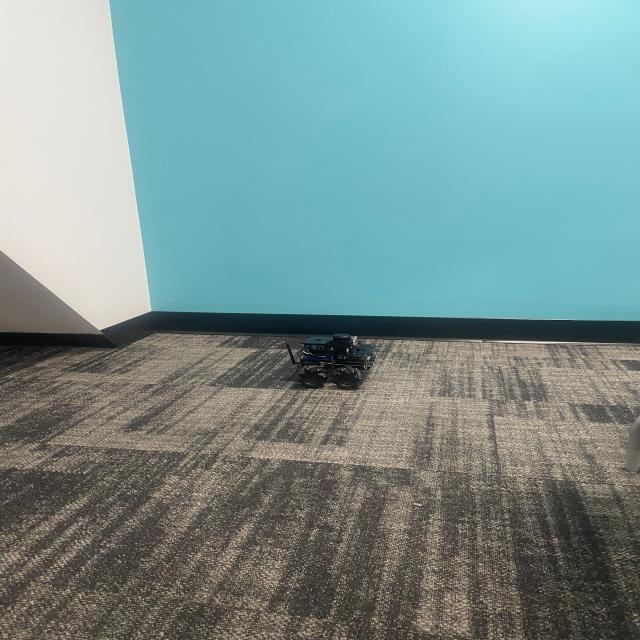ArduinoCar3: (286, 327, 384, 390)
